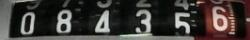digits: (171, 10, 194, 39), (133, 8, 152, 32), (210, 6, 228, 30), (56, 8, 72, 32), (94, 9, 110, 32), (20, 12, 35, 34)
